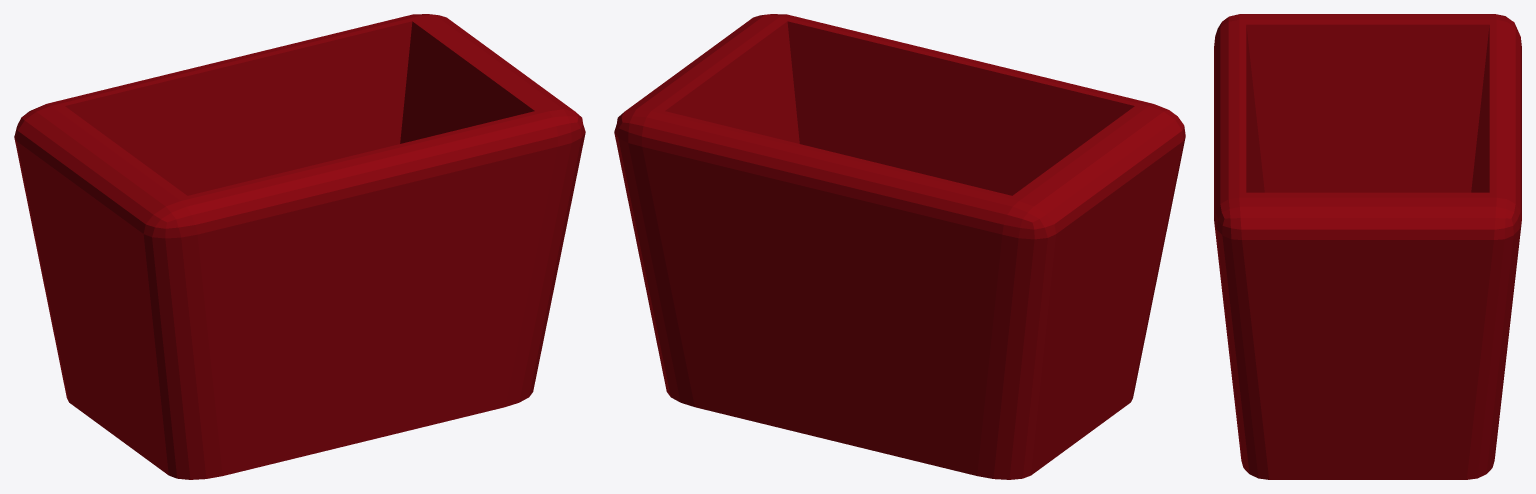
3 views of the same model, side by side, from view 1: azimuth 30°, elevation 25°; view 2: azimuth 150°, elevation 25°; view 3: azimuth 270°, elevation 25° (orthographic).
Visible parts, largest first — view 1: Cube; view 2: Cube; view 3: Cube.
Boxes of the visible parts, x1,y1,x2,y2 form: Cube: (14,14,585,479); Cube: (614,14,1185,479); Cube: (1214,14,1521,479).
Bounding box in the file's own units: 292 × 182 × 179.
